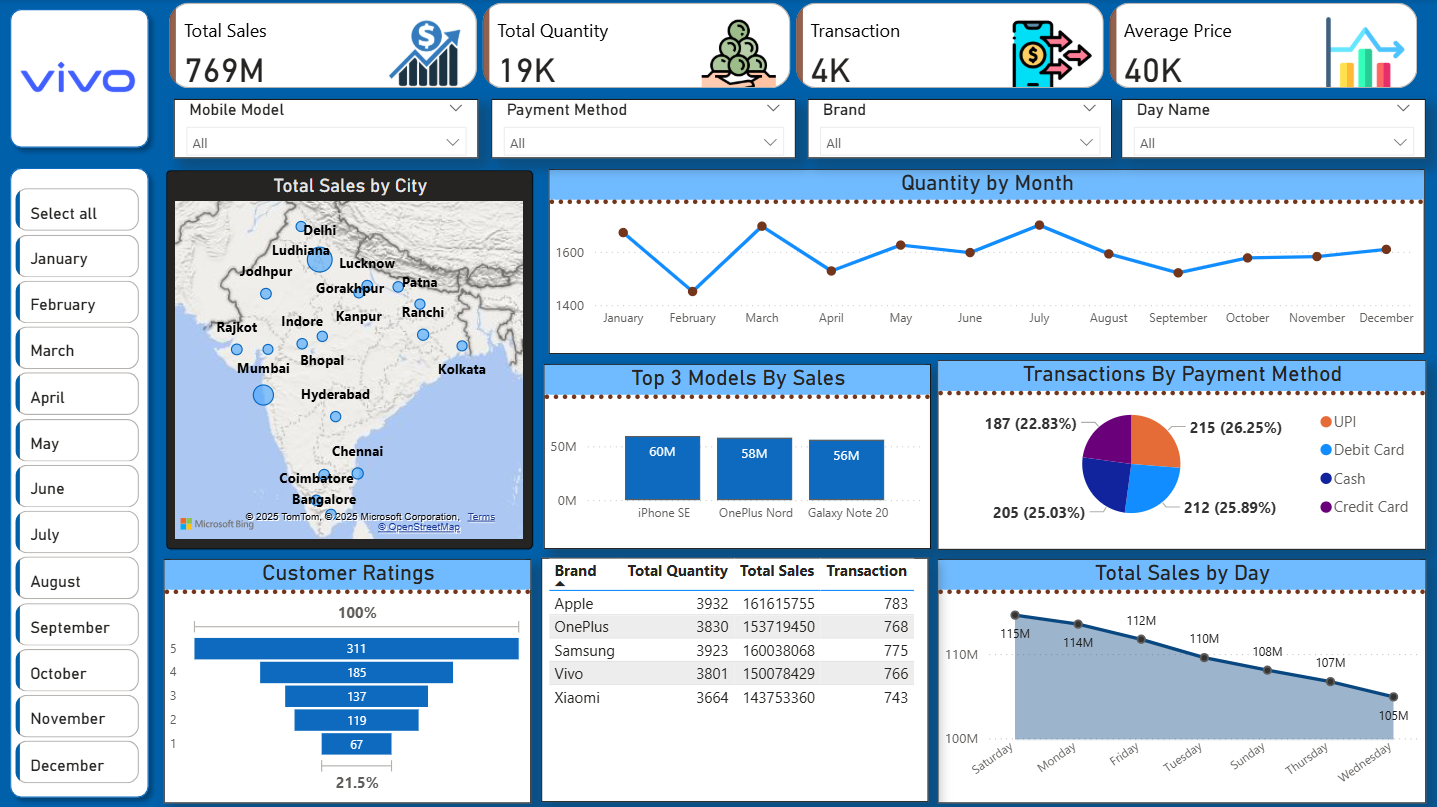

Layout of this report page (visuals, bound fields, positions):
{"tool":"powerbi","page":{"name":"Page 1","canvas":[1280,720],"ordinal":0},"visuals":[{"type":"shape","box":[0,141.2,141.2,578.8],"z":0},{"type":"shape","box":[0,0,141.2,141.2],"z":1000},{"type":"advancedSlicerVisual","fields":{"Values":["Sheet1.Date.Variation.Date Hierarchy.Month"]},"box":[8.8,163.8,120,552.5],"z":2000},{"type":"image","box":[8.8,15,120,112.5],"z":3000},{"type":"cardVisual","fields":{"Data":["Sales Data.Total Sales","Sales Data.Total Quantity","Sales Data.Total Transaction","Avg(Sales Data.Average Price)"]},"box":[146.2,3.8,1123.8,91.2],"z":4000},{"type":"map","fields":{"Category":["Sales Data.City"],"Size":["Sales Data.Total Sales"]},"box":[147.5,152.5,326.2,337.5],"z":5000},{"type":"lineChart","title":"Quantity by Month","fields":{"Y":["Sales Data.Total Quantity"],"Category":["Sales Data.Date.Variation.Date Hierarchy.Month","Sales Data.Date.Variation.Date Hierarchy.Day"]},"box":[488.8,151.2,780,165],"z":6000},{"type":"clusteredColumnChart","title":"Top 3 Models By Sales","fields":{"Category":["Sales Data.Mobile Model"],"Y":["Sales Data.Total Sales"]},"box":[483.8,325,345,165],"z":7000},{"type":"pieChart","title":"Transactions By Payment Method","fields":{"Category":["Sales Data.Payment Method"],"Y":["Sales Data.Total Transaction"]},"box":[835,321.2,435,168.8],"z":8000},{"type":"funnel","title":"Customer Ratings","fields":{"Category":["Sales Data.Customer Ratings"],"Y":["CountNonNull(Sales Data.Customer Ratings)"]},"box":[146.2,498.8,327.5,217.5],"z":9000},{"type":"areaChart","title":"Total Sales by Day","fields":{"Category":["Sales Data.Day Name"],"Y":["Sales Data.Total Sales"]},"box":[835,498.8,435,217.5],"z":10000},{"type":"tableEx","fields":{"Values":["Sales Data.Brand","Sales Data.Total Quantity","Sales Data.Total Sales","Sales Data.Total Transaction"]},"box":[482.5,497.5,345,217.5],"z":11000},{"type":"slicer","fields":{"Values":["Sales Data.Mobile Model"]},"box":[155,88.8,271.2,52.5],"z":12000},{"type":"slicer","fields":{"Values":["Sales Data.Payment Method"]},"box":[437.5,88.8,271.2,52.5],"z":13000},{"type":"slicer","fields":{"Values":["Sales Data.Brand"]},"box":[718.8,88.8,271.2,52.5],"z":14000},{"type":"slicer","fields":{"Values":["Sales Data.Day Name"]},"box":[998.8,88.8,271.2,52.5],"z":15000}]}

Visuals, with their boxes in screenshot pixels (x1, y1, x2, y2), scaled from the page's 1280x720 canvas onto the 1437x807 screenshot:
shape: (0,158,159,806)
shape: (0,0,159,158)
advancedSlicerVisual - Sheet1.Date.Variation.Date Hierarchy.Month: (10,184,145,803)
image: (10,17,145,143)
cardVisual - Sales Data.Total Sales x Sales Data.Total Quantity: (164,4,1426,106)
map - Sales Data.City x Sales Data.Total Sales: (166,171,532,549)
"Quantity by Month" lineChart: (549,169,1424,354)
"Top 3 Models By Sales" clusteredColumnChart: (543,364,930,549)
"Transactions By Payment Method" pieChart: (937,360,1426,549)
"Customer Ratings" funnel: (164,559,532,803)
"Total Sales by Day" areaChart: (937,559,1426,803)
tableEx - Sales Data.Brand x Sales Data.Total Quantity: (542,558,929,801)
slicer - Sales Data.Mobile Model: (174,100,478,158)
slicer - Sales Data.Payment Method: (491,100,796,158)
slicer - Sales Data.Brand: (807,100,1111,158)
slicer - Sales Data.Day Name: (1121,100,1426,158)
